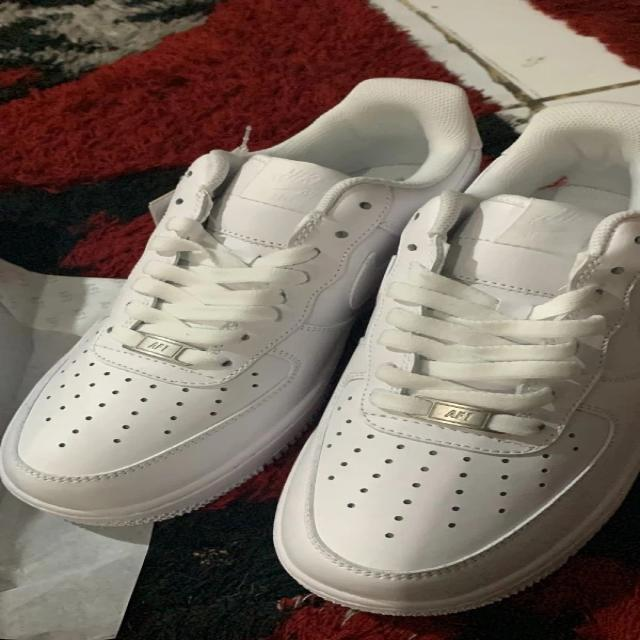nike original air force: (0, 72, 483, 525), (263, 99, 640, 620)
